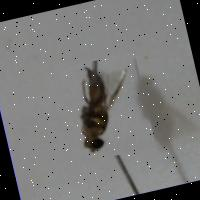Oriental-fruit-fly: (60, 50, 156, 162)
